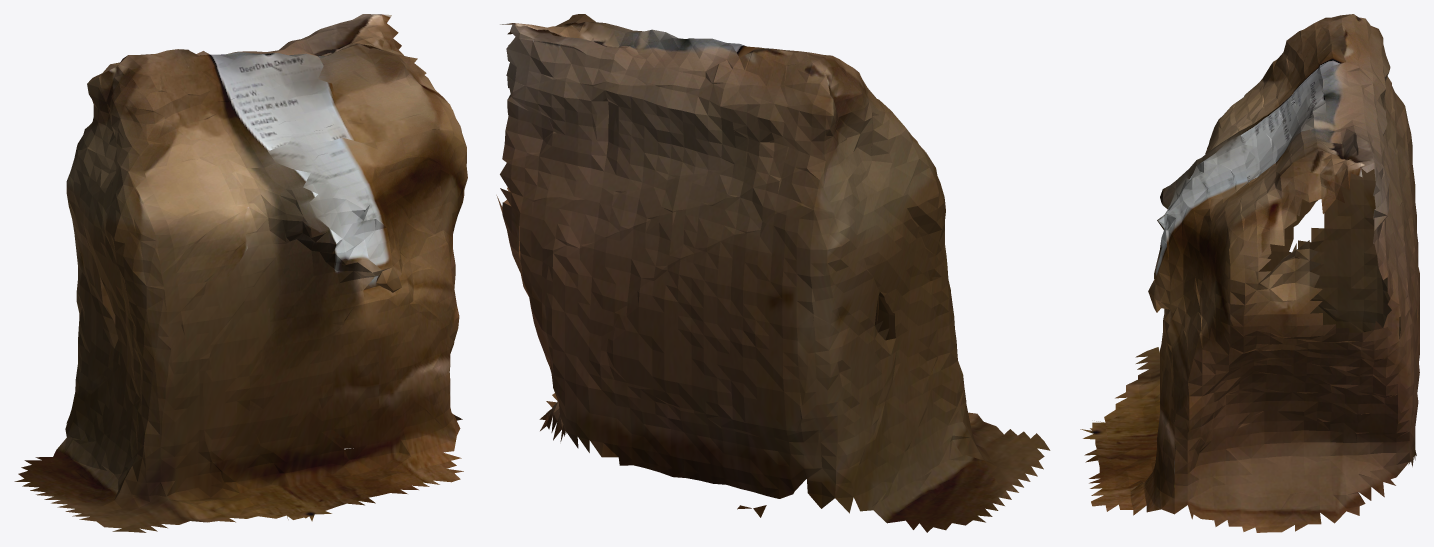
File: Untitled_Scan_03_50_40.fbx
3 views of the same model, side by side, from view 1: azimuth 30°, elevation 25°; view 2: azimuth 150°, elevation 25°; view 3: azimuth 270°, elevation 25° (orthographic). The views are drawn at different scales.
Parts seen in each view (by area): view 1: Object; view 2: Object; view 3: Object.
Part boxes in pixels (left/top/right/bottom): Object: left=14, top=14, right=467, bottom=532; Object: left=496, top=14, right=1050, bottom=532; Object: left=1080, top=14, right=1419, bottom=532.
Size of the model in its own units: 33.8 by 29.5 by 23.2.
1 material, 1 textured.
